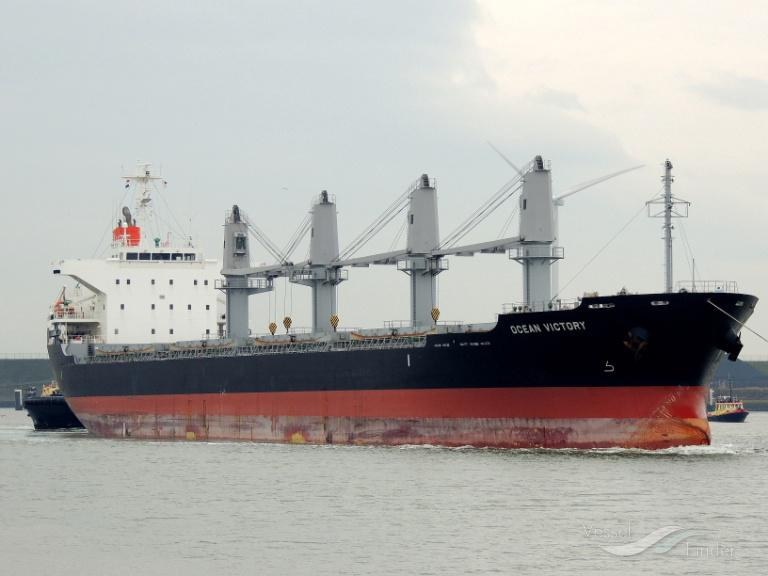OCR: (499, 320, 593, 336)
